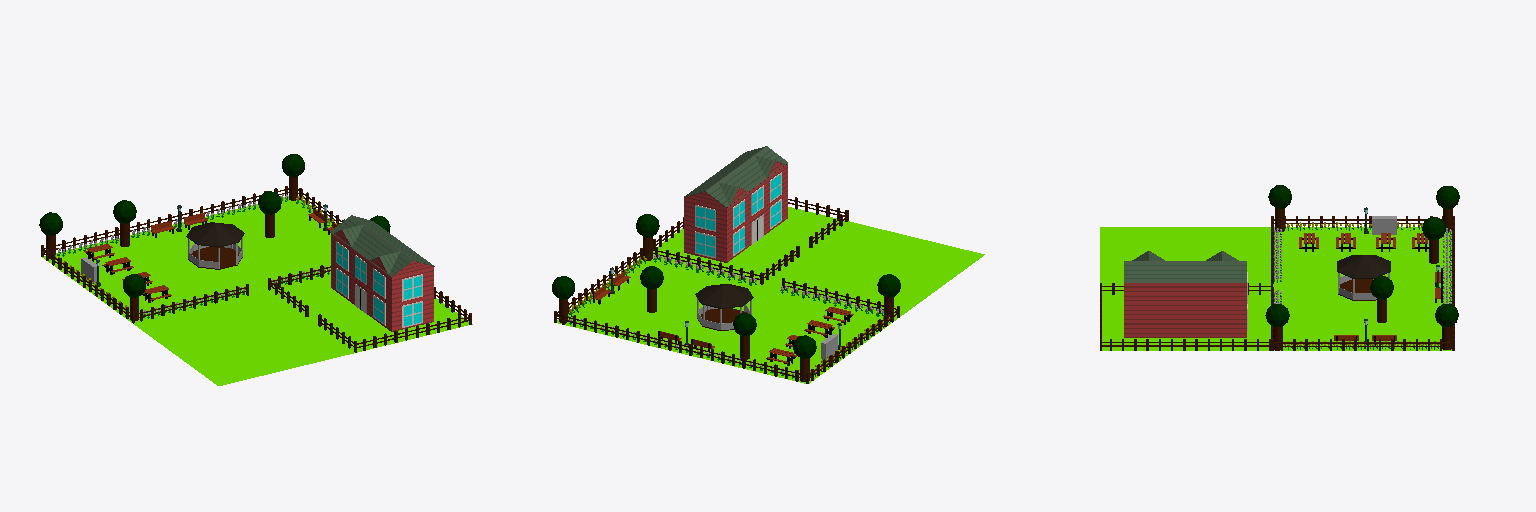
The picture shows the model from 3 angles: view 1: azimuth 30°, elevation 25°; view 2: azimuth 150°, elevation 25°; view 3: azimuth 270°, elevation 25°; orthographic projection.
Visible parts, largest first — view 1: Cube.003_Cube.009; view 2: Cube.003_Cube.009; view 3: Cube.003_Cube.009.
Boxes of the visible parts, <box> form: Cube.003_Cube.009: <box>39,154,472,385</box>; Cube.003_Cube.009: <box>552,146,984,383</box>; Cube.003_Cube.009: <box>1100,185,1459,350</box>.
Bounding box in the file's own units: 24.82 × 6.04 × 29.44.
15 materials, 2 textured.